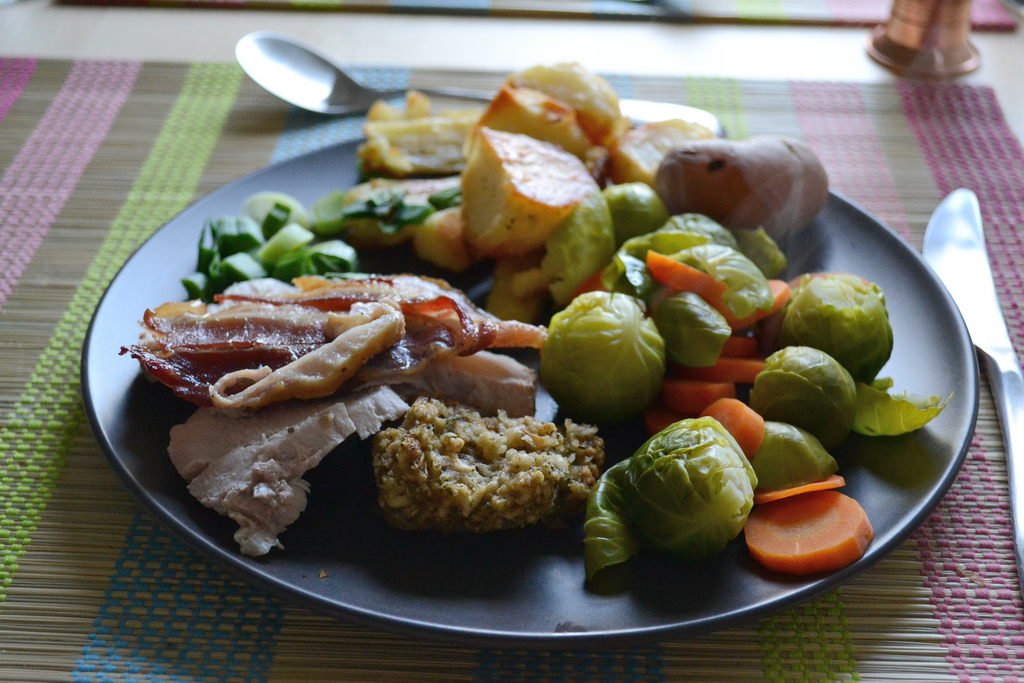boiled potatoes: (383, 71, 699, 253)
